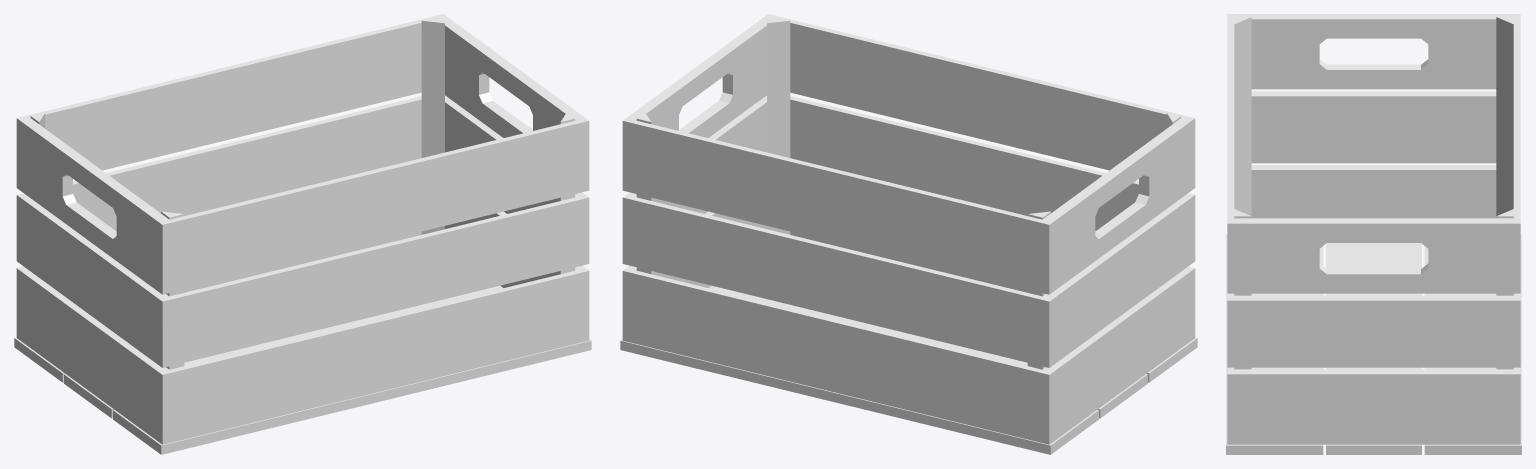
File: Prop_Wooden_Crate_01.glb
3 renders of one model, left to right at view 1: azimuth 30°, elevation 25°; view 2: azimuth 150°, elevation 25°; view 3: azimuth 270°, elevation 25°, orthographic.
Visible parts, largest first — view 1: Prop_Wooden Crate_01; view 2: Prop_Wooden Crate_01; view 3: Prop_Wooden Crate_01.
Boxes of the visible parts, left/top/right/bottom form: Prop_Wooden Crate_01: left=14, top=14, right=591, bottom=454; Prop_Wooden Crate_01: left=620, top=14, right=1197, bottom=454; Prop_Wooden Crate_01: left=1226, top=14, right=1521, bottom=454.
Size of the model in its own units: 0.7662 by 0.3936 by 0.4537.
Materials: 1 (1 with a texture image).
